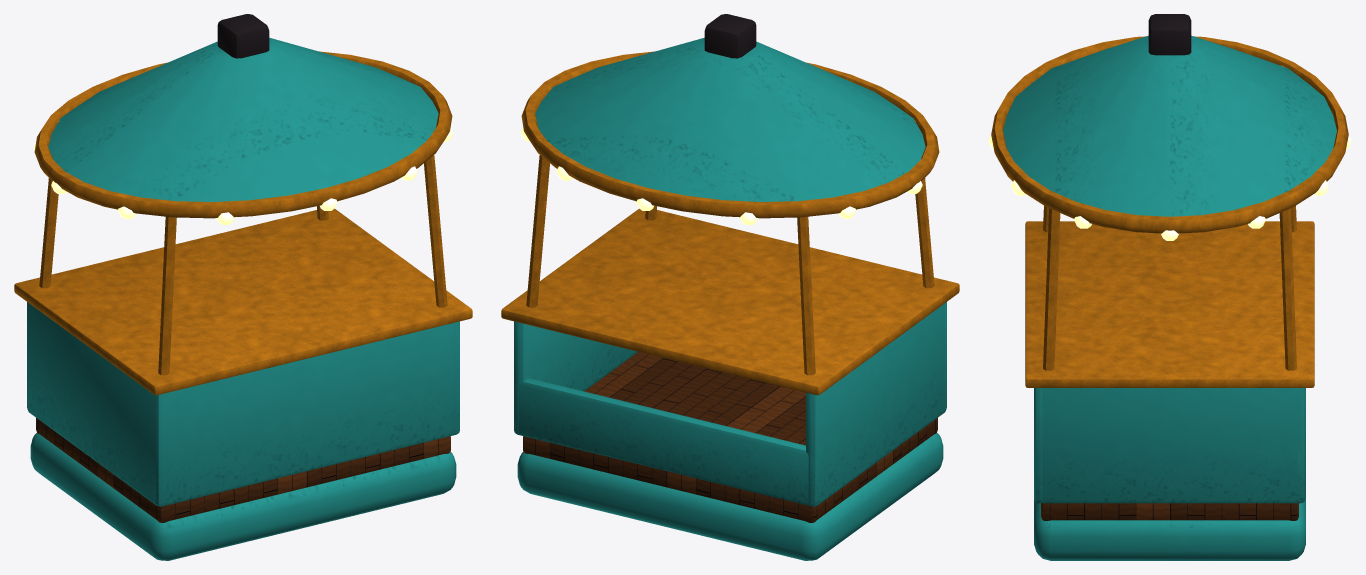
The model's file is gondola-teal.glb.
The picture shows the model from 3 angles, left to right: view 1: azimuth 30°, elevation 25°; view 2: azimuth 150°, elevation 25°; view 3: azimuth 270°, elevation 25°; orthographic projection.
Visible parts, largest first — view 1: gondola-teal; view 2: gondola-teal; view 3: gondola-teal.
Part boxes in pixels (x1,y1,x2,y2): gondola-teal: (14, 14, 472, 560); gondola-teal: (501, 14, 959, 560); gondola-teal: (988, 14, 1351, 560).
Size of the model in its own units: 3.12 by 3.62 by 2.54.
7 materials, 4 textured.
